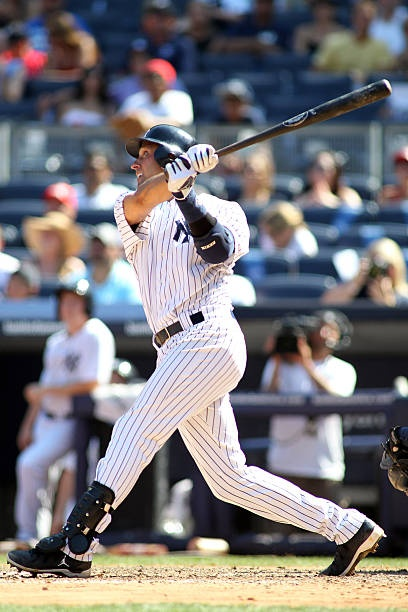bita: (208, 81, 393, 161)
